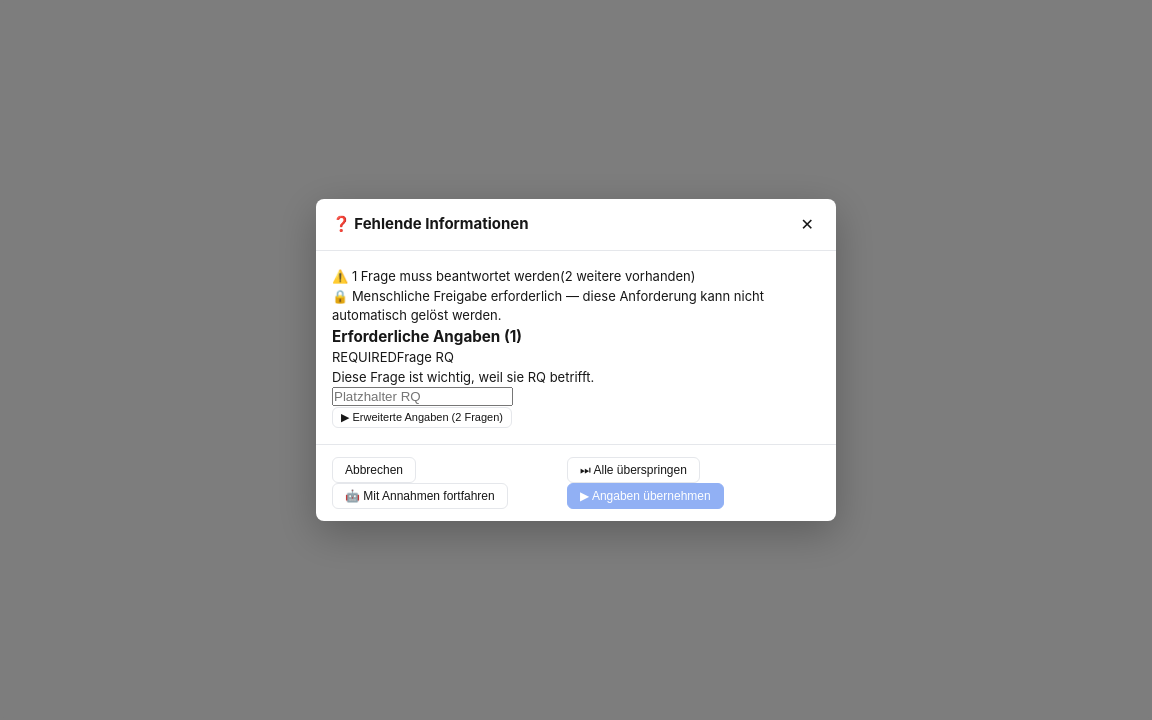
MissingInfoGate › edge cases › shows "Erweiterte Angaben" for RECOMMENDED + OPTIONAL items behind toggle
Step 1. Click the button with test id "gate-toggle-advanced" → coordinates (422, 417), box [332,407,512,428]
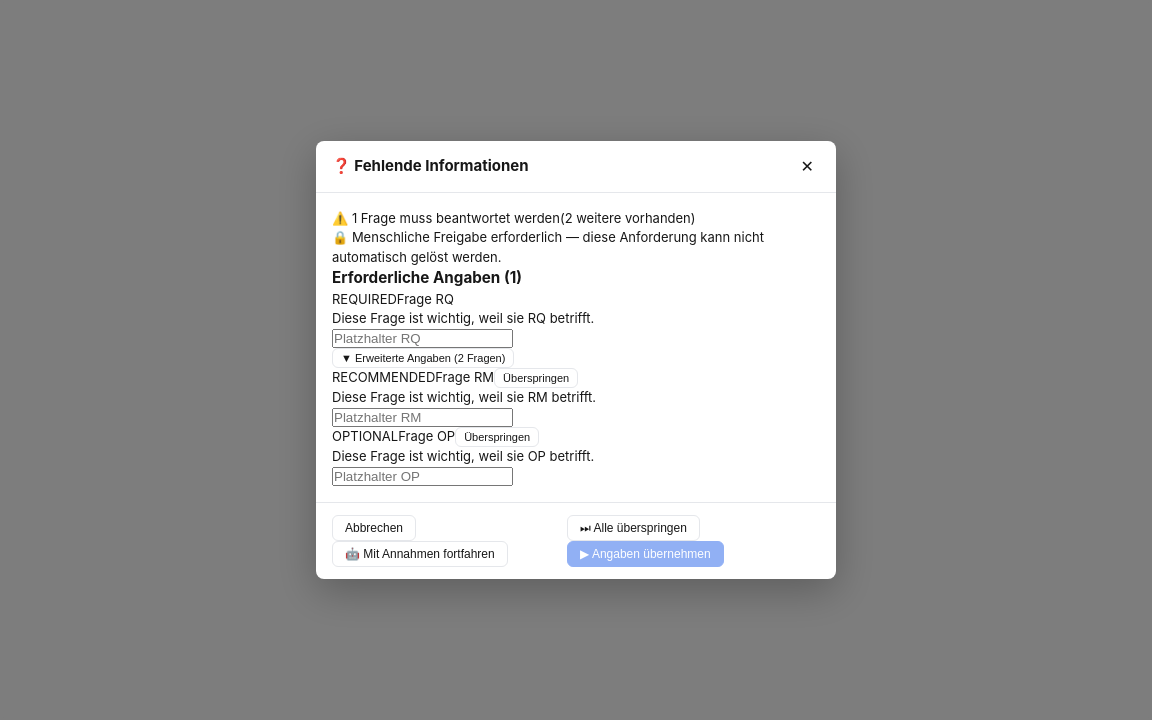
Now the element with test id "gate-question-RM" is shown, box [332,368,596,427]
Now the element with test id "gate-question-OP" is shown, box [332,427,594,486]
